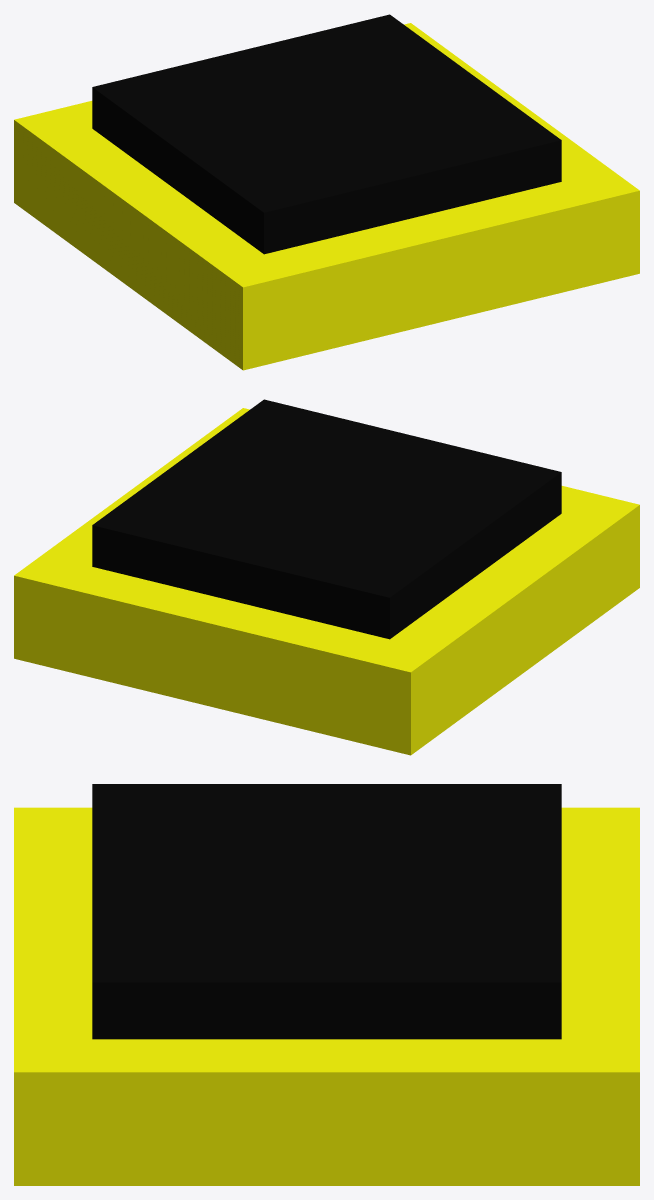
File: YellowHoldNote.obj
3 renders of one model, top to bottom at view 1: azimuth 30°, elevation 25°; view 2: azimuth 150°, elevation 25°; view 3: azimuth 270°, elevation 25°, orthographic. The views are drawn at different scales.
Parts seen in each view (by area): view 1: Base, Top; view 2: Base, Top; view 3: Base, Top.
Part boxes in pixels (left/top/right/bottom): Base: left=14, top=23, right=639, bottom=370; Top: left=92, top=14, right=561, bottom=254; Base: left=14, top=408, right=639, bottom=755; Top: left=92, top=399, right=561, bottom=639; Base: left=14, top=807, right=639, bottom=1185; Top: left=92, top=784, right=561, bottom=1039.
Bounding box in the file's own units: 2 × 0.6 × 2.
